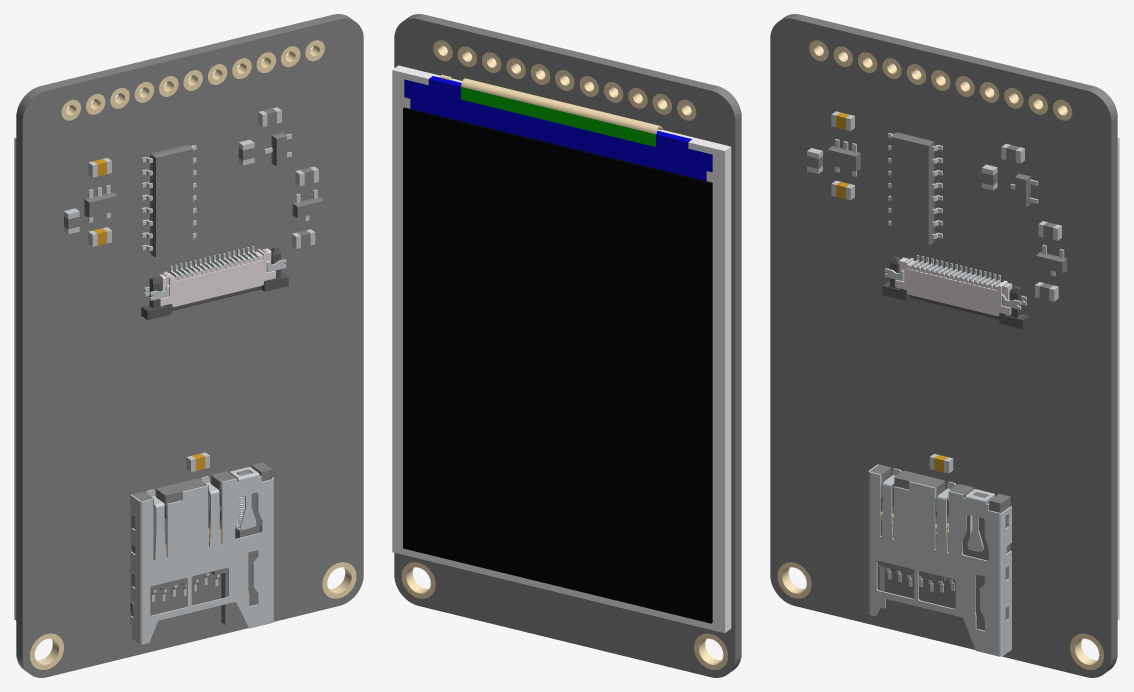
File: tft_display.glb
3 renders of one model, left to right at view 1: azimuth 30°, elevation 25°; view 2: azimuth 150°, elevation 25°; view 3: azimuth 330°, elevation 25°, orthographic.
Visible parts, largest first — view 1: Node7, Node3, Node6, Node2, Node4, Node1, Node5, Node9, Node11; view 2: Node10, Node7, Node9, Node8, Node6, Node12; view 3: Node7, Node3, Node6, Node4, Node2, Node1, Node5, Node9.
Boxes of the visible parts, box(x1,y1,x2,y2) form: Node7: box(16, 14, 363, 677); Node3: box(64, 111, 317, 644); Node6: box(30, 40, 356, 669); Node2: box(64, 107, 317, 643); Node4: box(158, 248, 275, 307); Node1: box(64, 110, 318, 644); Node5: box(141, 247, 288, 320); Node9: box(14, 137, 16, 620); Node11: box(93, 159, 205, 470); Node10: box(403, 107, 712, 623); Node7: box(394, 14, 741, 677); Node9: box(392, 65, 731, 633); Node8: box(404, 76, 712, 180); Node6: box(401, 40, 727, 669); Node12: box(461, 87, 655, 146); Node7: box(770, 14, 1117, 677); Node3: box(807, 115, 1064, 656); Node6: box(777, 40, 1103, 669); Node4: box(895, 257, 1012, 316); Node2: box(818, 133, 1063, 631); Node1: box(807, 111, 1061, 621); Node5: box(882, 256, 1029, 329); Node9: box(1117, 137, 1119, 620).
Bounding box in the file's own units: 35.56 × 58.42 × 4.44.
